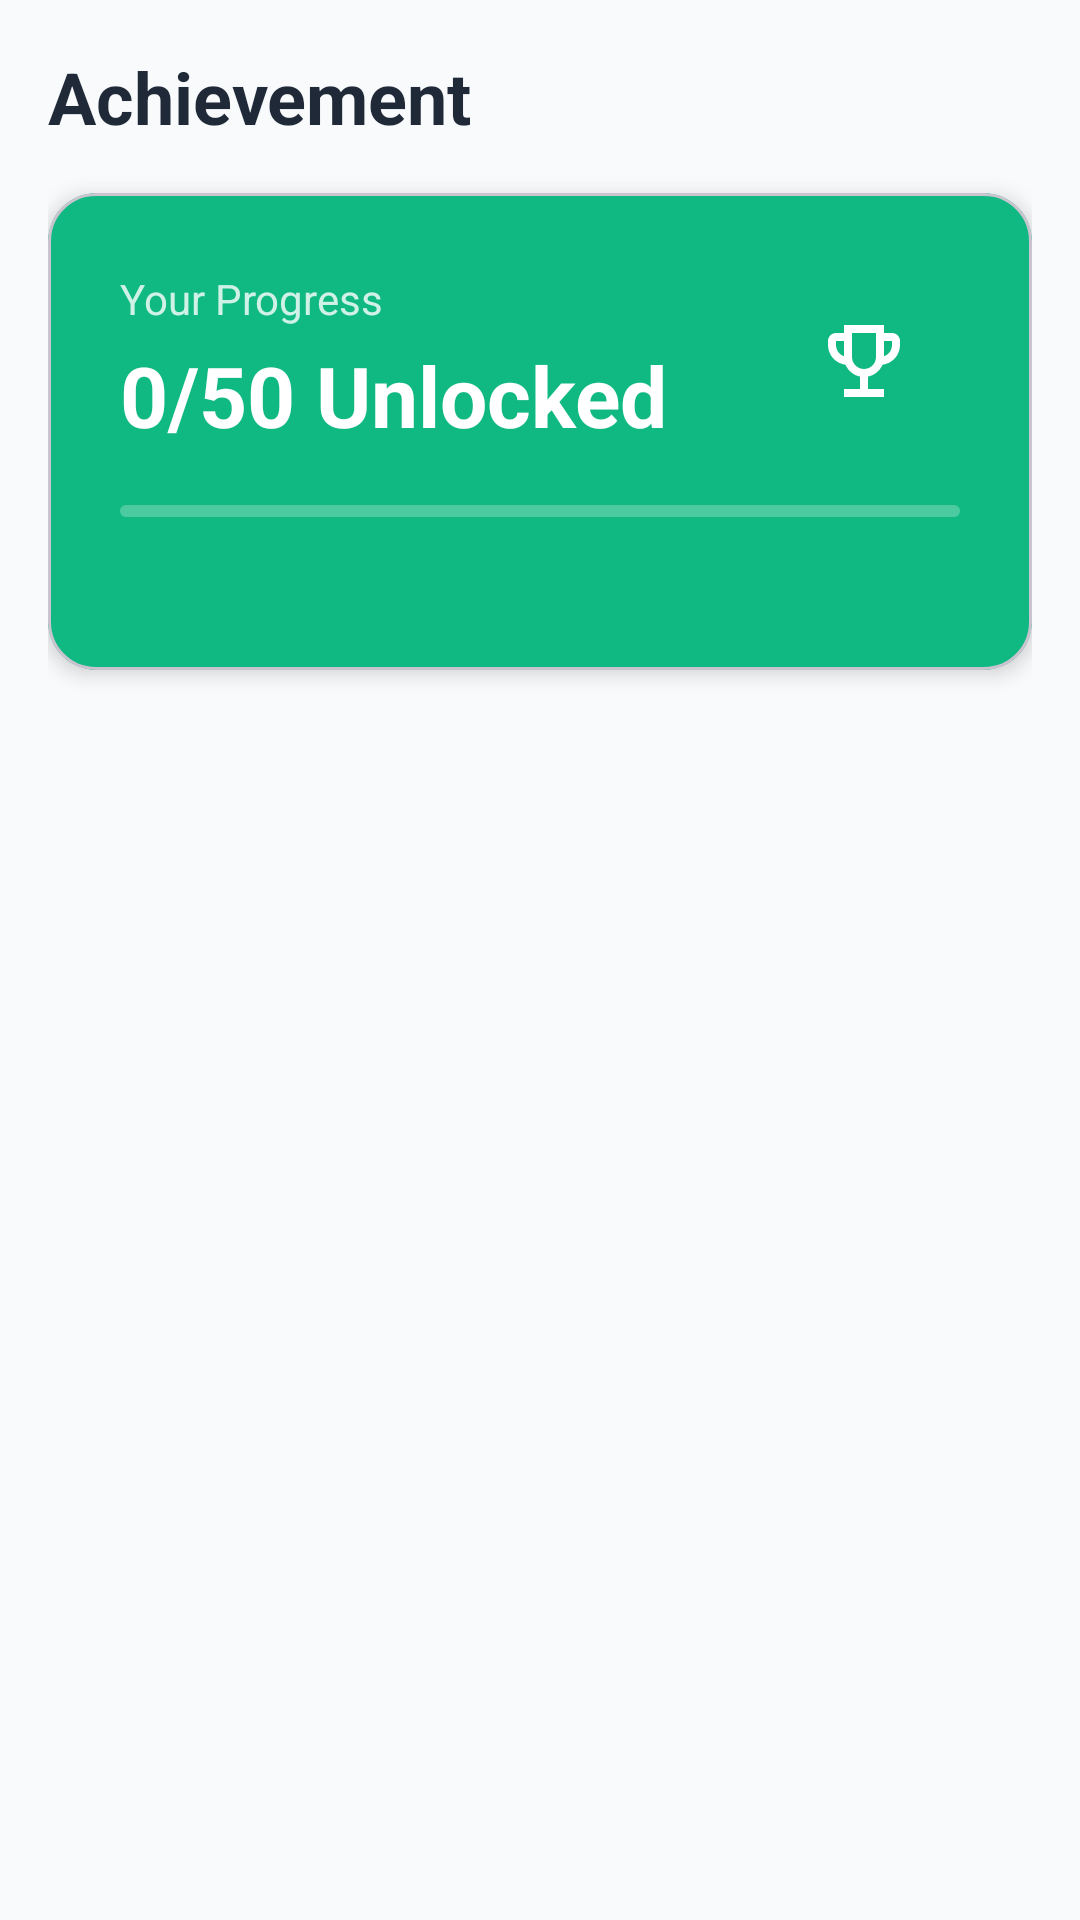

Icon bounding boxes for this 1080px x 1920px phone screenshot, format {"left": x1, "top": y1, "right": x2, "bottom": y2}:
trophy: {"left": 828, "top": 325, "right": 900, "bottom": 397}
